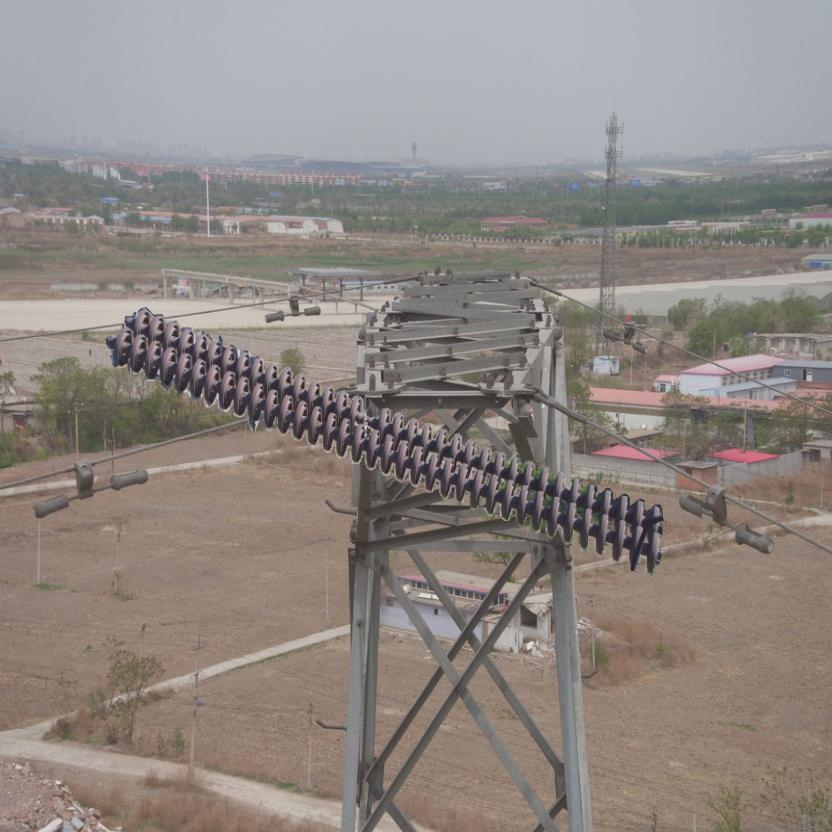defect: (344, 390, 393, 435)
